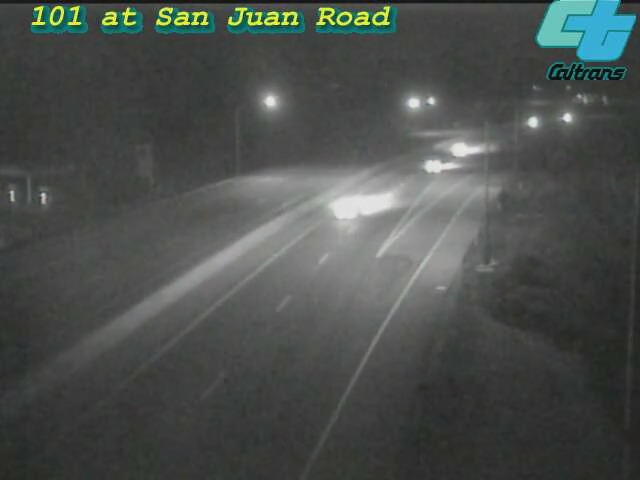vehicle: (396, 126, 476, 206), (311, 170, 391, 250), (506, 97, 556, 147), (540, 93, 590, 143), (434, 124, 484, 174)
